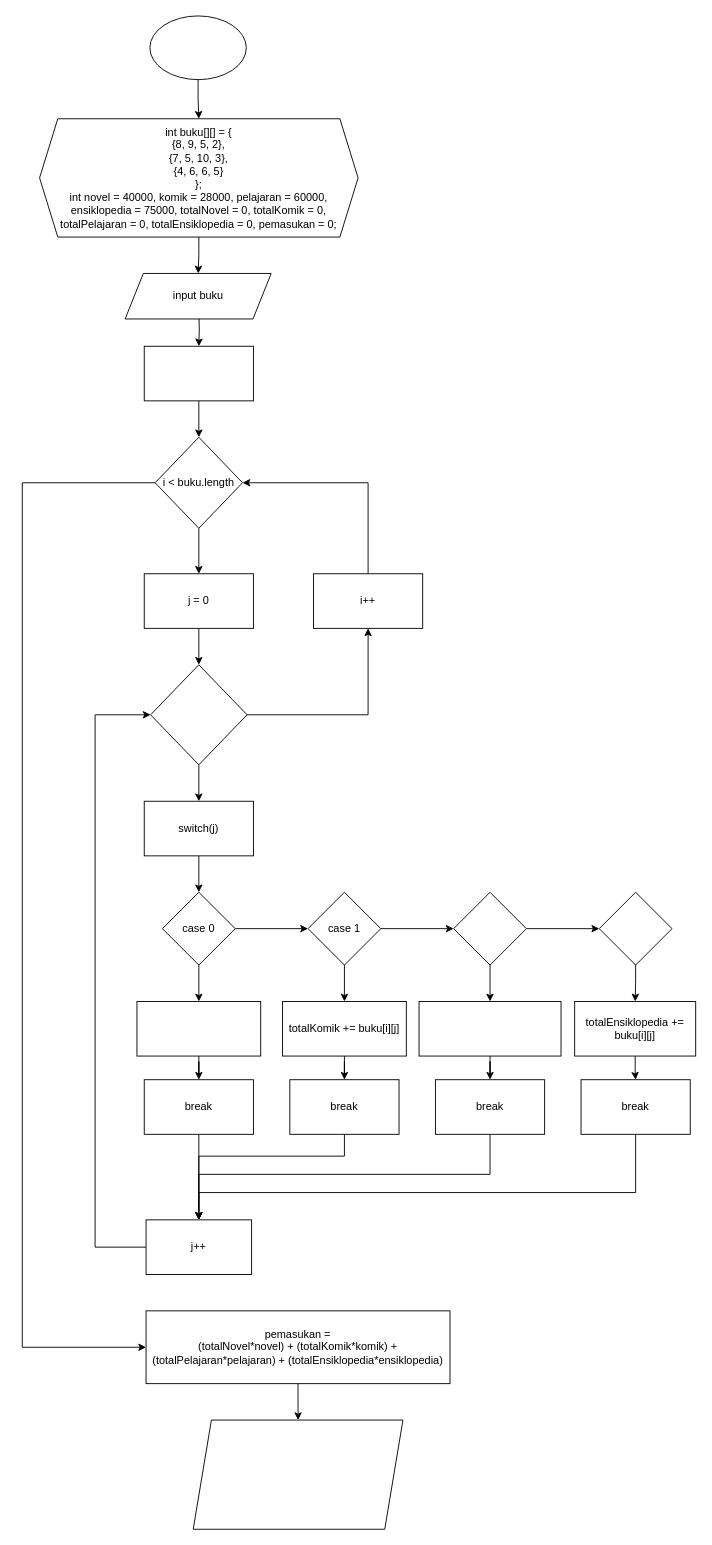
Image size: 712x1545. Some labels were removed from this diagram. Each missing label, with the centre of its shape:
case 2: pixel 489 928
case 3: pixel 635 928
i = 0: pixel 198 373
j < buku[0].length: pixel 198 714
Mulai: pixel 197 47
output "Total pemasukan seluruh cabang Togamas: Rp" + pemasukan: pixel 297 1474
totalNovel += buku[i][j]: pixel 198 1028
totalPelajaran += buku[i][j]: pixel 489 1028
